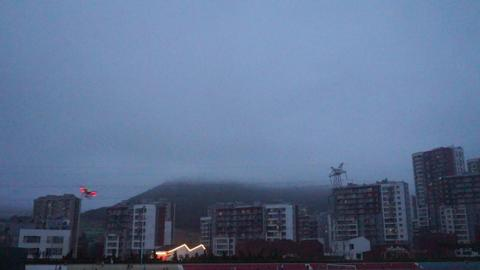UAV: (79, 188, 98, 198)
